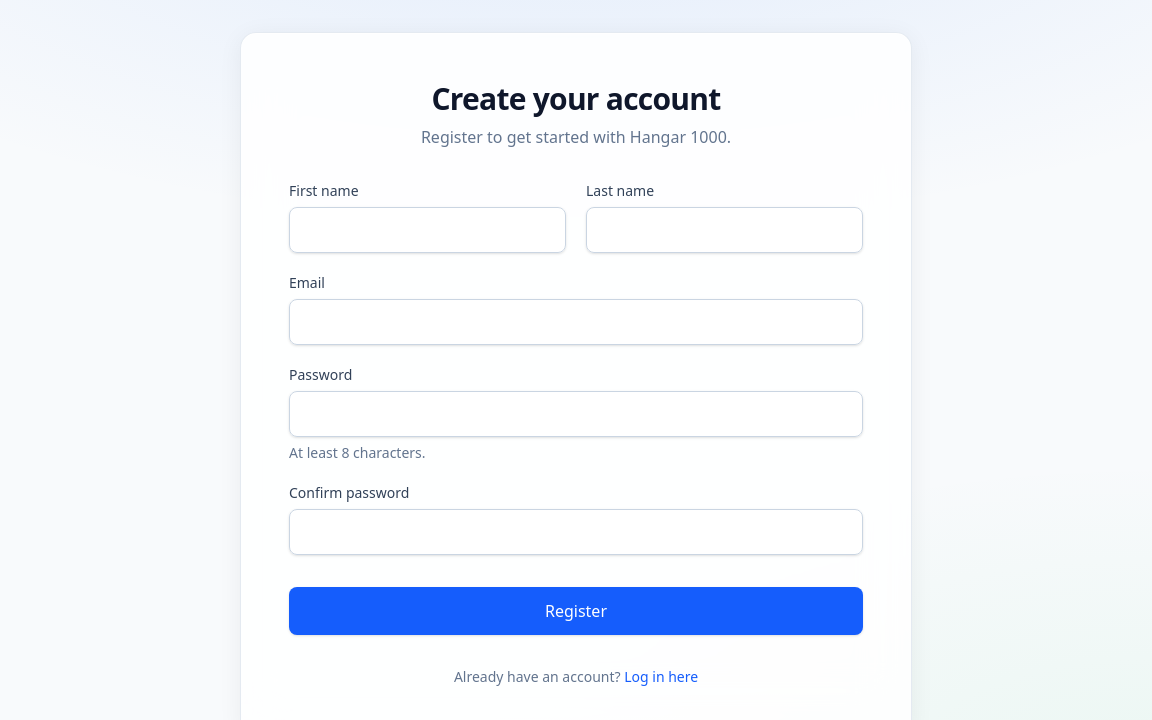
it: RegisterPage › shows required-field errors when submitting an empty form
Click the button "Register" at (576,611), box [289,587,863,635]
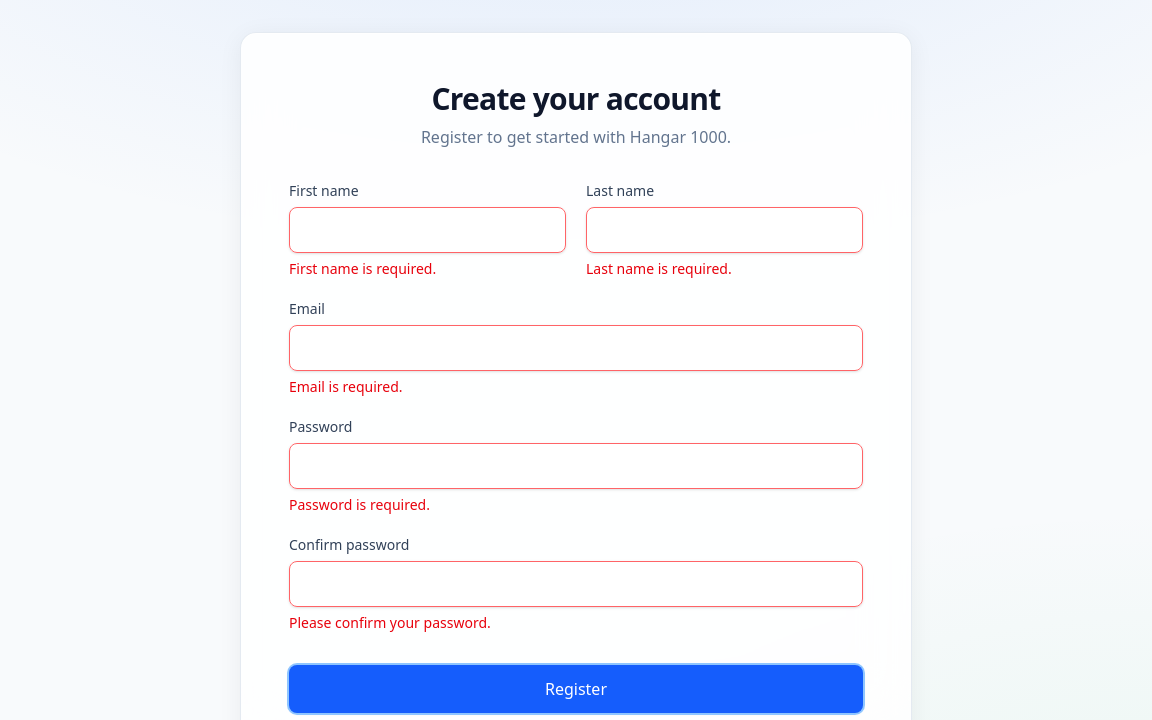
expect the text "First name is required." is shown: met, box [289,259,436,278]
expect the text "Last name is required." is shown: met, box [586,259,732,278]
expect the text "Email is required." is shown: met, box [289,377,403,396]
